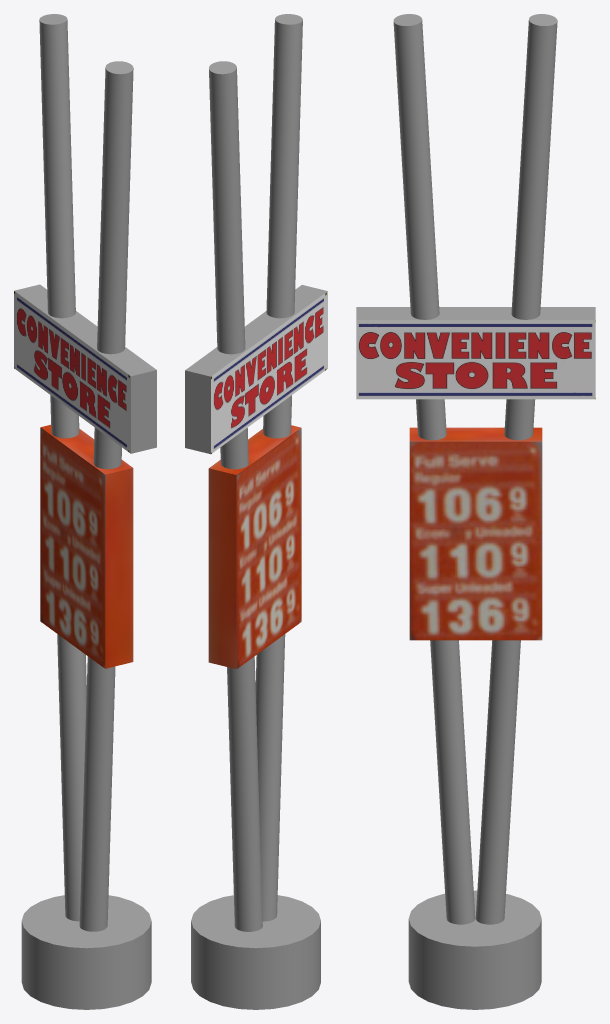
Rendered from StorePriceSignFinal.fbx.
The picture shows the model from 3 angles, left to right: view 1: azimuth 30°, elevation 25°; view 2: azimuth 150°, elevation 25°; view 3: azimuth 270°, elevation 25°; orthographic projection. The views are drawn at different scales.
Visible parts, largest first — view 1: polySurface18, polySurface13, polySurface15, polySurface16, polySurface14; view 2: polySurface18, polySurface15, polySurface13, polySurface16, polySurface14; view 3: polySurface18, polySurface16, polySurface15, polySurface13, polySurface14.
Part boxes in pixels (x1,y1,x2,y2): polySurface18: (40, 424, 133, 668); polySurface13: (79, 61, 133, 931); polySurface15: (39, 14, 86, 921); polySurface16: (14, 284, 156, 453); polySurface14: (21, 895, 151, 1009); polySurface18: (208, 425, 301, 669); polySurface15: (209, 61, 262, 931); polySurface13: (255, 14, 302, 921); polySurface16: (185, 285, 327, 454); polySurface14: (191, 895, 320, 1009); polySurface18: (409, 427, 542, 640); polySurface16: (356, 307, 595, 399); polySurface15: (475, 14, 557, 924); polySurface13: (393, 14, 475, 924); polySurface14: (408, 890, 541, 1009).
Bounding box in the file's own units: 5.08 × 40.54 × 9.14.
